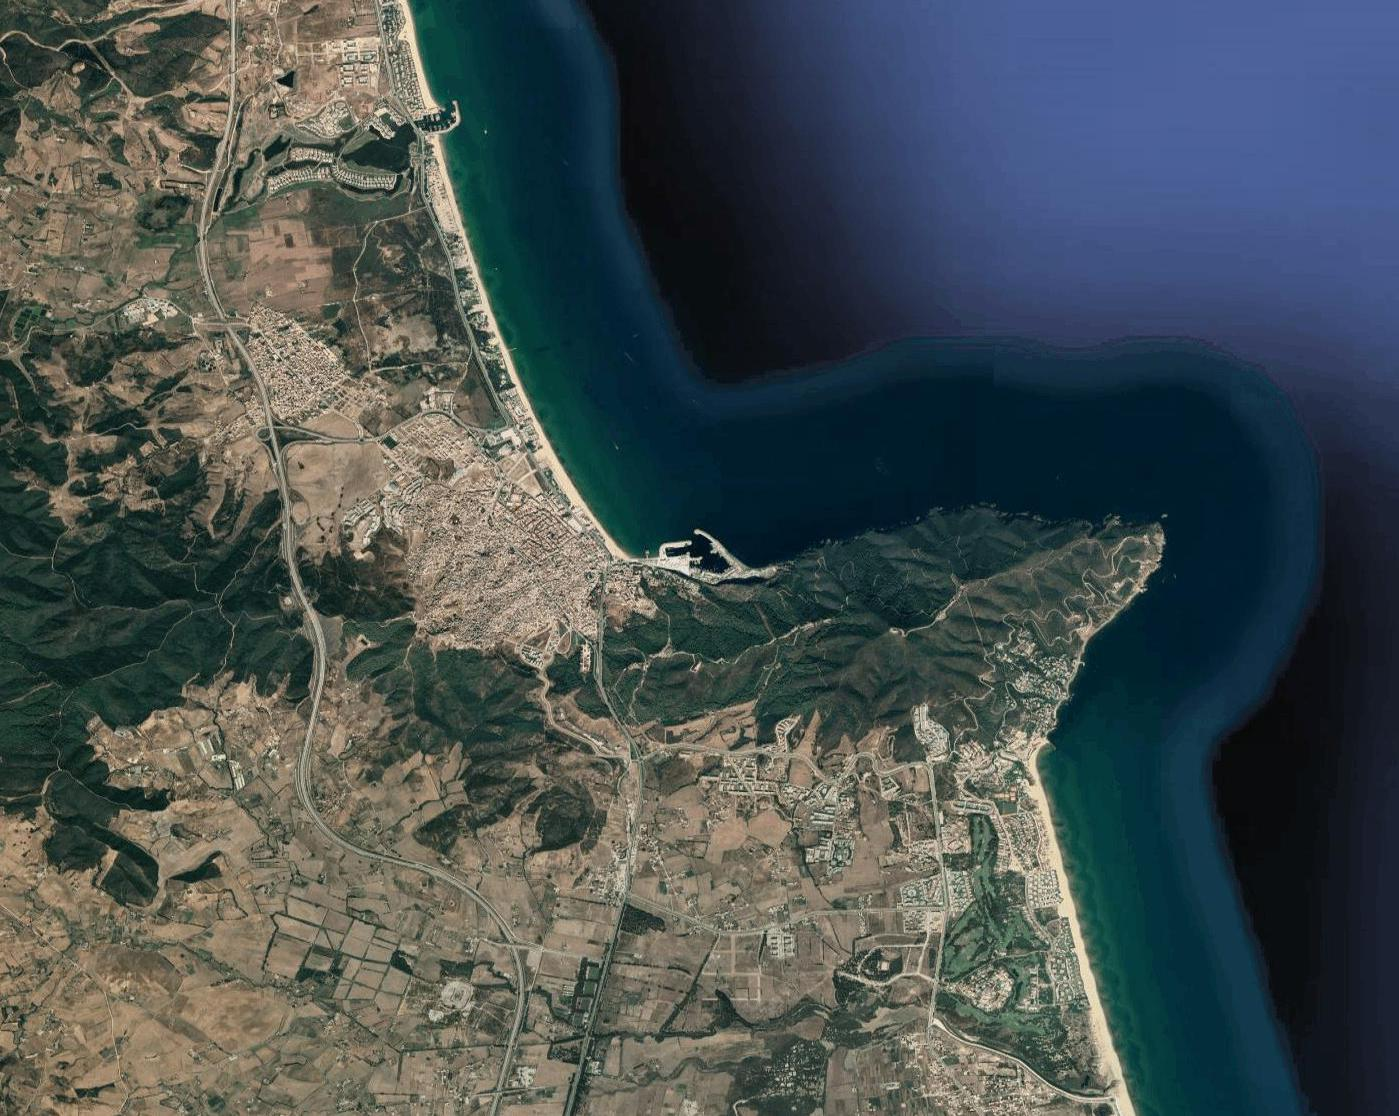harbor: (647, 519, 746, 583)
motorway: (294, 777, 382, 859), (382, 852, 493, 914), (209, 289, 266, 399), (283, 536, 329, 649), (261, 399, 295, 534), (294, 649, 329, 776), (486, 1011, 521, 1116), (493, 904, 528, 1009), (213, 69, 239, 179), (194, 177, 217, 292), (224, 1, 242, 67)
